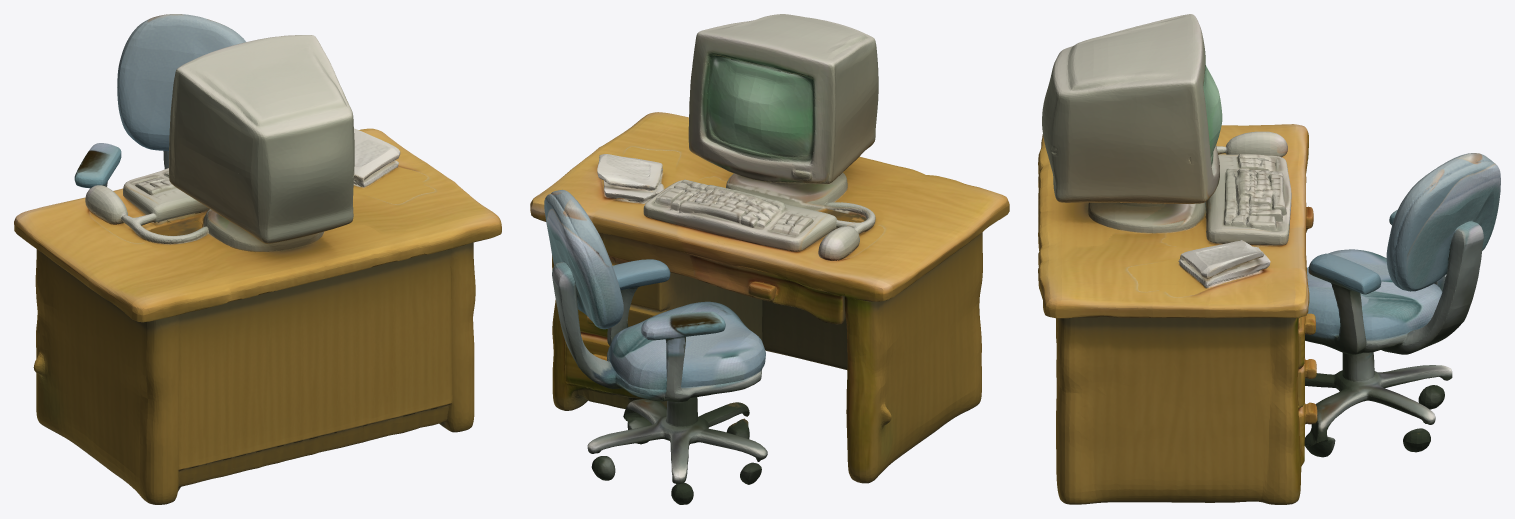
Rendered from window_desk.glb.
The picture shows the model from 3 angles, left to right: view 1: azimuth 30°, elevation 25°; view 2: azimuth 150°, elevation 25°; view 3: azimuth 270°, elevation 25°; orthographic projection. The views are drawn at different scales.
Parts seen in each view (by area): view 1: geometry_0; view 2: geometry_0; view 3: geometry_0.
Boxes of the visible parts, left/top/right/bottom form: geometry_0: left=14, top=14, right=501, bottom=504; geometry_0: left=530, top=14, right=1009, bottom=504; geometry_0: left=1038, top=14, right=1500, bottom=504.
Bounding box in the file's own units: 0.9439 × 0.9158 × 0.9996.
Materials: 1 (1 with a texture image).
